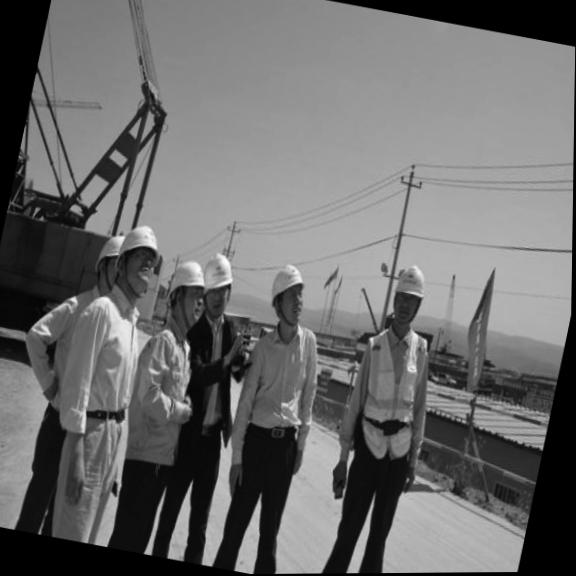no_safety_vest: (115, 325, 247, 489), (60, 287, 153, 434), (248, 326, 321, 437)
safety_vest: (346, 323, 440, 463)
